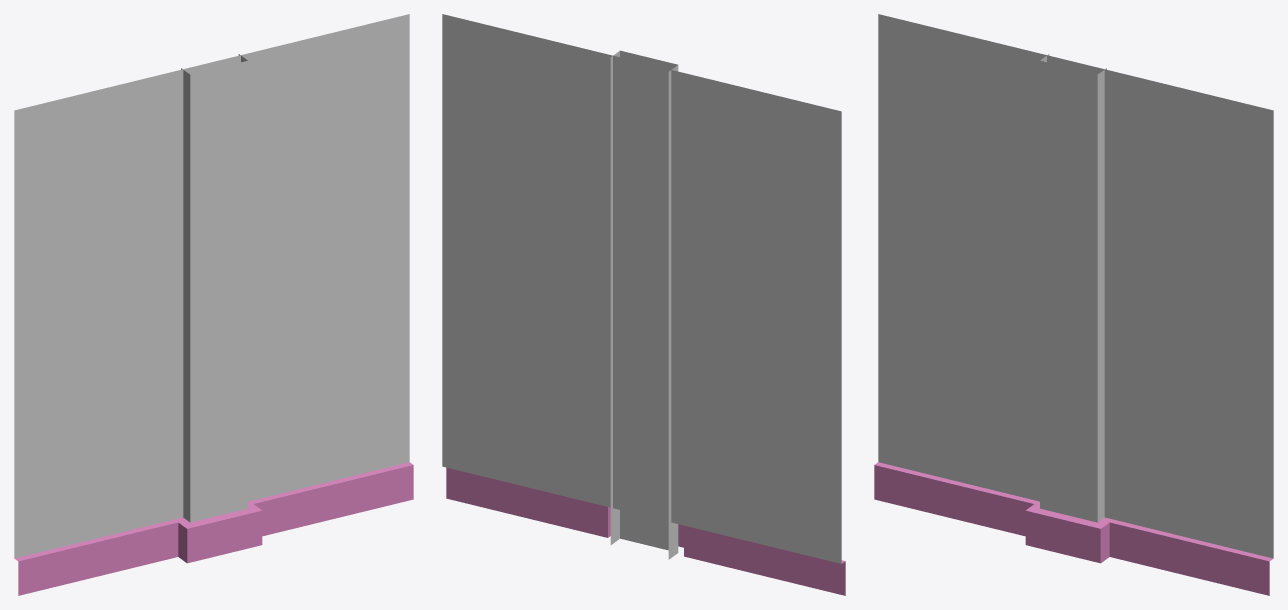
File: Wall1.fbx
3 renders of one model, left to right at view 1: azimuth 30°, elevation 25°; view 2: azimuth 150°, elevation 25°; view 3: azimuth 330°, elevation 25°, orthographic.
Parts seen in each view (by area): view 1: Cube.008; view 2: Cube.008; view 3: Cube.008.
Part boxes in pixels (left/top/right/bottom): Cube.008: left=14, top=14, right=413, bottom=595; Cube.008: left=442, top=14, right=845, bottom=595; Cube.008: left=874, top=14, right=1273, bottom=595.
Size of the model in its own units: 6 by 7.01 by 0.398.
